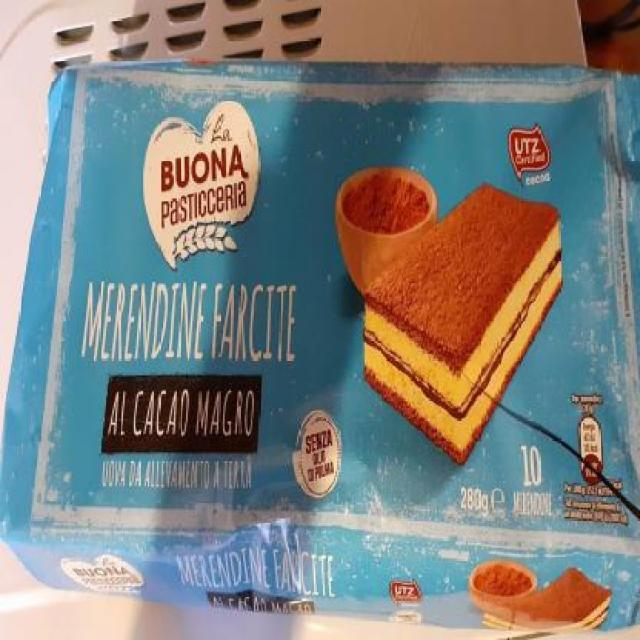Merendine: (0, 64, 640, 633)
Merendine packaged: (362, 177, 567, 474)
